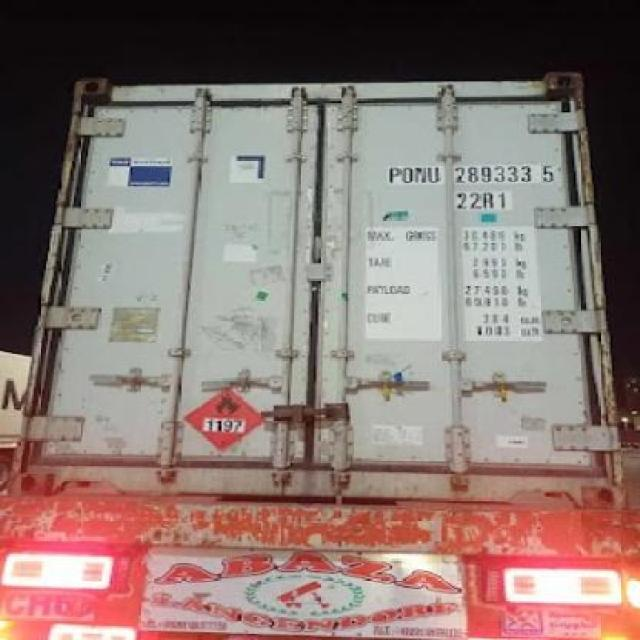ISO: (458, 188, 512, 210)
container_number: (396, 164, 556, 186)
